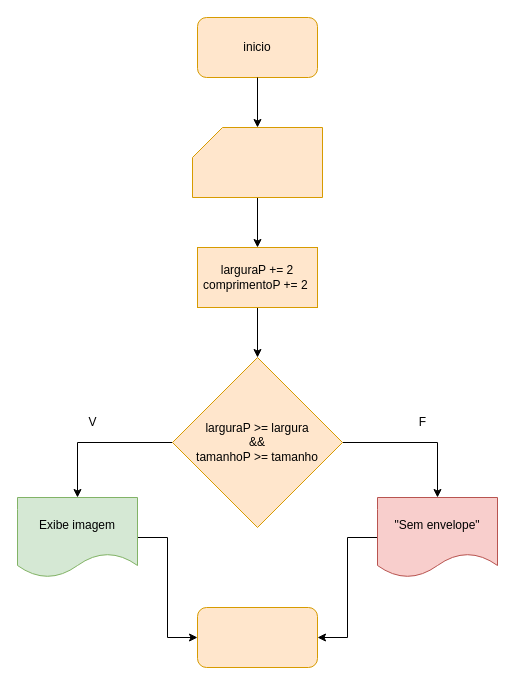
Some shapes in this 515 by 685 pixel diagram are drawn without their labels. Here are the shapes that lost their labels. From the top down, the box of each, then its label:
(192, 126, 322, 198): larguraP comprimentoP
(196, 606, 318, 668): Fim
